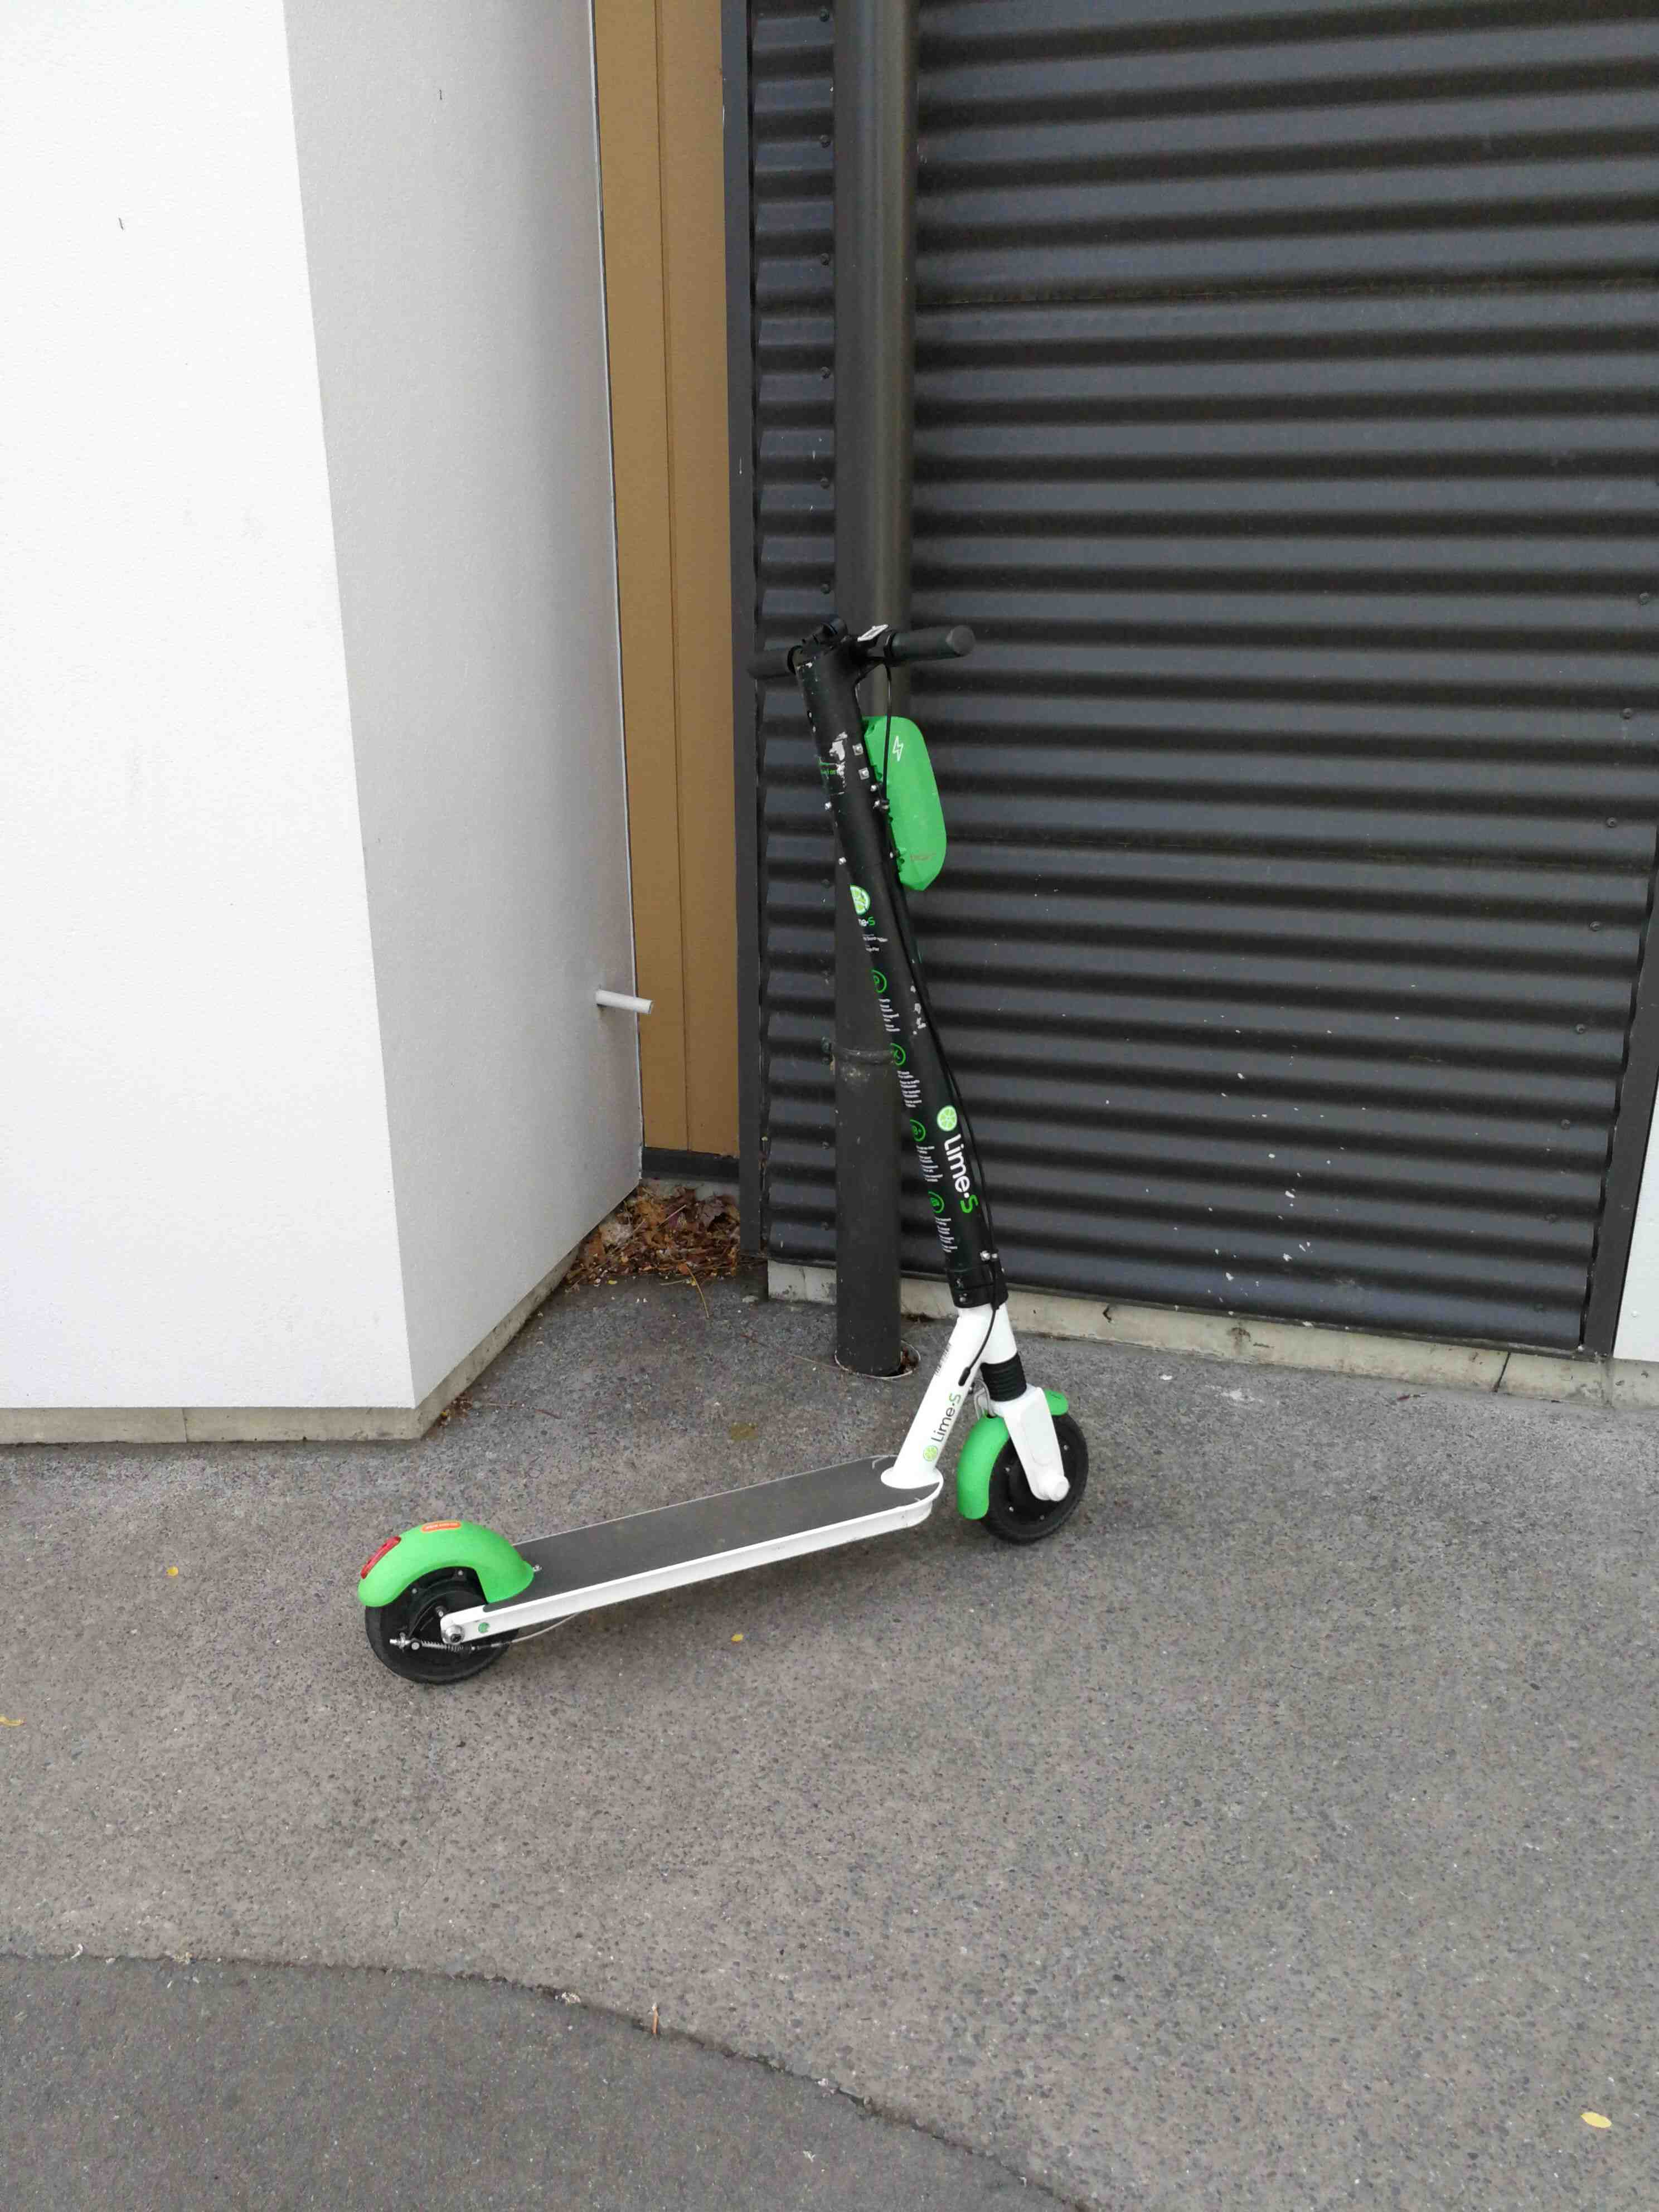scooter: (312, 538, 1112, 1721)
